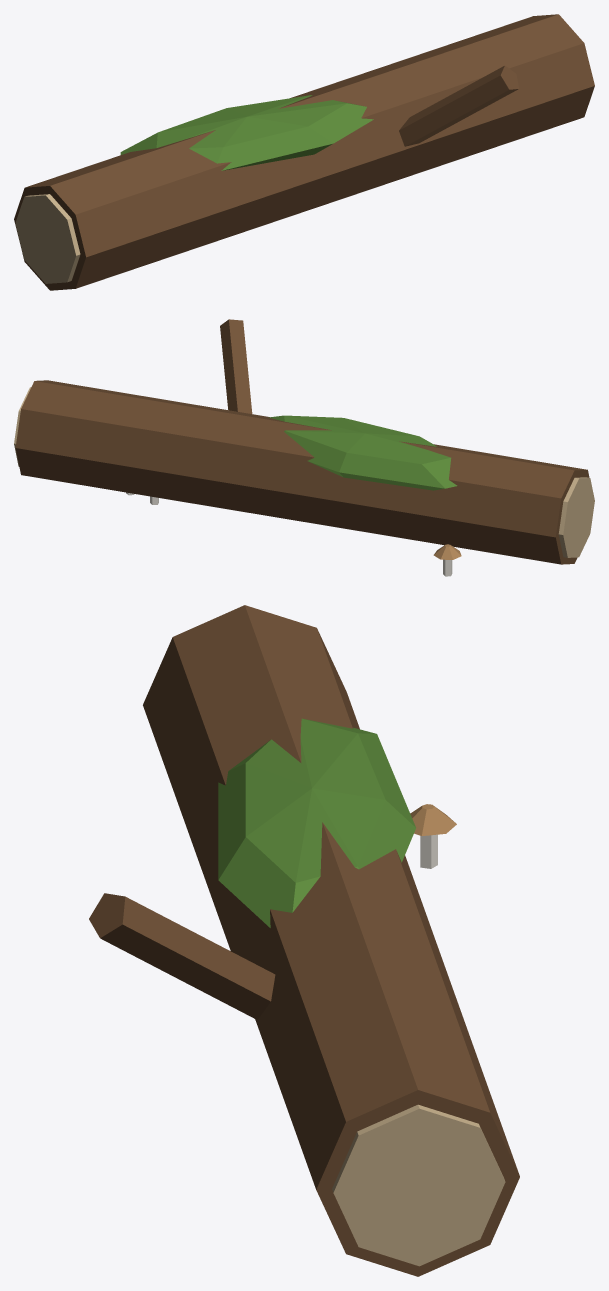
The model's file is fallen_log.glb.
3 views of the same model, one above another, from view 1: azimuth 30°, elevation 25°; view 2: azimuth 150°, elevation 25°; view 3: azimuth 270°, elevation 25° (orthographic). The views are drawn at different scales.
Visible parts, largest first — view 1: fallen_log; view 2: fallen_log; view 3: fallen_log.
Part boxes in pixels (bbox=[...]): fallen_log: bbox=[14, 14, 594, 290]; fallen_log: bbox=[14, 319, 594, 576]; fallen_log: bbox=[89, 605, 519, 1276].
Bounding box in the file's own units: 3.7 × 0.8971 × 1.34.
